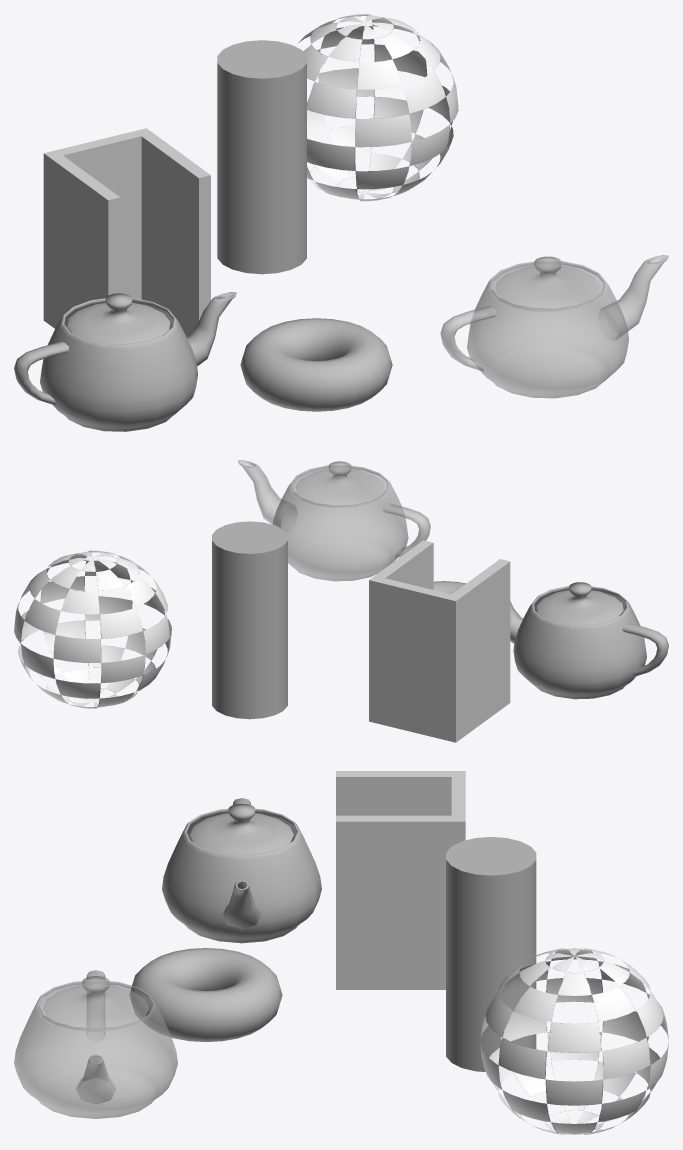
3 renders of one model, top to bottom at view 1: azimuth 30°, elevation 25°; view 2: azimuth 150°, elevation 25°; view 3: azimuth 270°, elevation 25°, orthographic. The views are drawn at different scales.
Visible parts, largest first — view 1: Cylinder001, Teapot001, Teapot002, Sphere001, Box002, Torus001, Box003, Box001; view 2: Sphere001, Cylinder001, Teapot001, Teapot002, Box003, Box001, Box002; view 3: Sphere001, Box002, Teapot001, Teapot002, Cylinder001, Torus001, Box003, Box001.
Part boxes in pixels (x1,y1,x2,y2): Cylinder001: (217, 40, 306, 274); Teapot001: (440, 255, 668, 398); Teapot002: (14, 292, 236, 431); Sphere001: (298, 14, 458, 201); Box002: (135, 128, 210, 336); Torus001: (240, 318, 392, 411); Box003: (43, 150, 120, 328); Box001: (56, 131, 141, 299); Sphere001: (14, 550, 171, 708); Cylinder001: (212, 521, 287, 719); Teapot001: (238, 460, 430, 581); Teapot002: (510, 582, 668, 699); Box003: (445, 559, 510, 742); Box001: (379, 578, 451, 740); Box002: (369, 540, 433, 723); Sphere001: (480, 948, 668, 1134); Box002: (336, 815, 465, 989); Teapot001: (14, 970, 177, 1118); Teapot002: (162, 798, 321, 943); Cylinder001: (446, 837, 536, 1071); Torus001: (129, 948, 282, 1041); Box003: (336, 771, 465, 815); Box001: (451, 777, 465, 815).
Size of what is drawn, in the model's own units: 4.73 by 1.54 by 4.47.
Materials: 5 (1 with a texture image).
